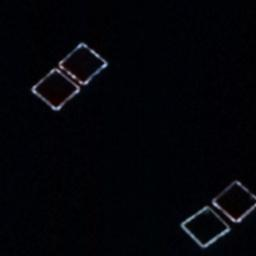square_solid: (27, 62, 85, 116), (176, 197, 234, 248), (54, 37, 110, 87), (209, 172, 256, 228)
